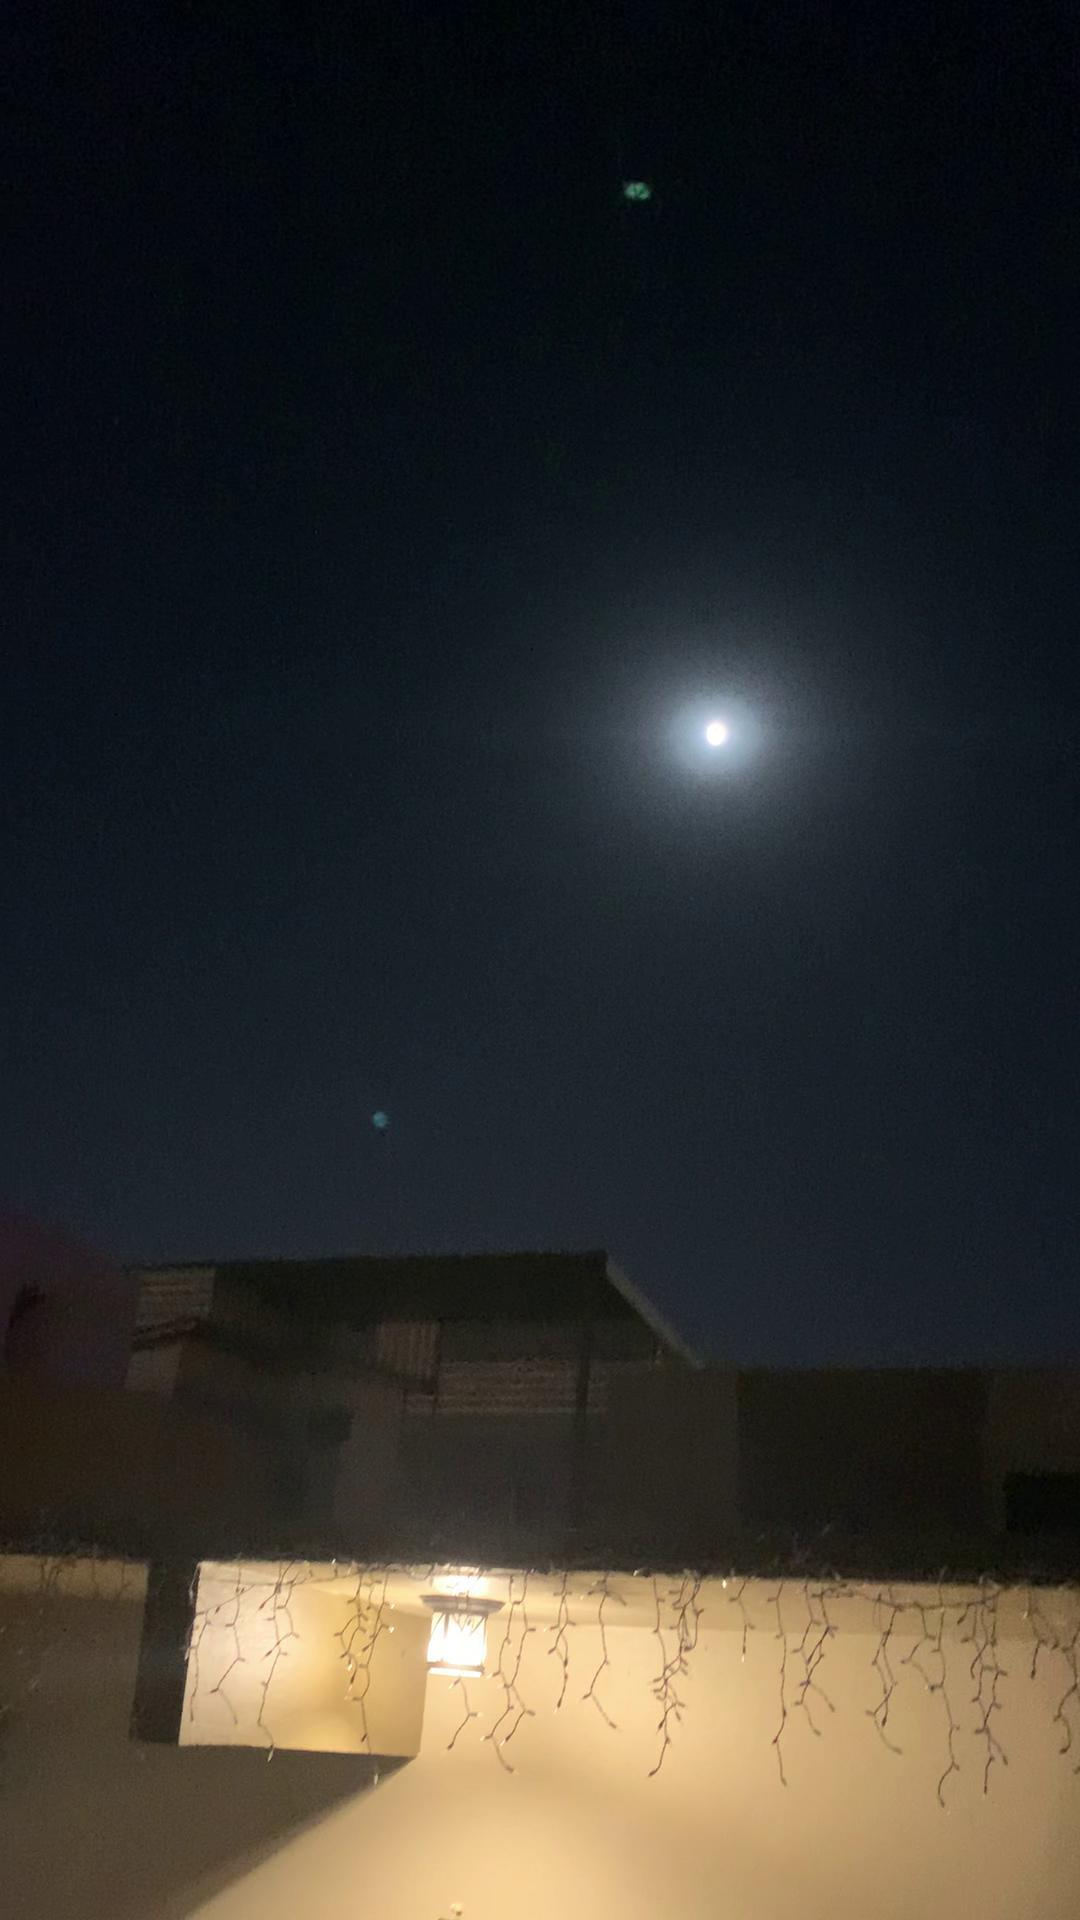moon: (674, 695, 761, 774)
